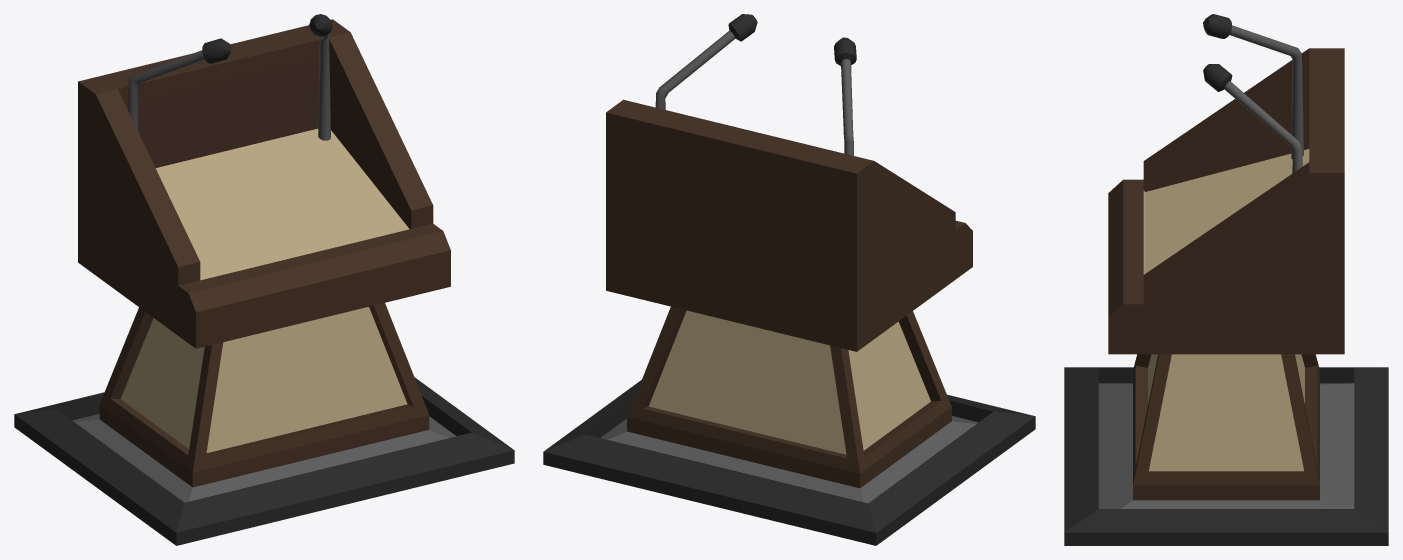
File: Model_Podium 1.fbx
3 views of the same model, side by side, from view 1: azimuth 30°, elevation 25°; view 2: azimuth 150°, elevation 25°; view 3: azimuth 270°, elevation 25° (orthographic).
Visible parts, largest first — view 1: Box001; view 2: Box001; view 3: Box001.
Part boxes in pixels (<box>): Box001: <box>14,14,514,545</box>; Box001: <box>543,14,1035,545</box>; Box001: <box>1064,14,1388,545</box>.
Bounding box in the file's own units: 119 × 143 × 99.1.
